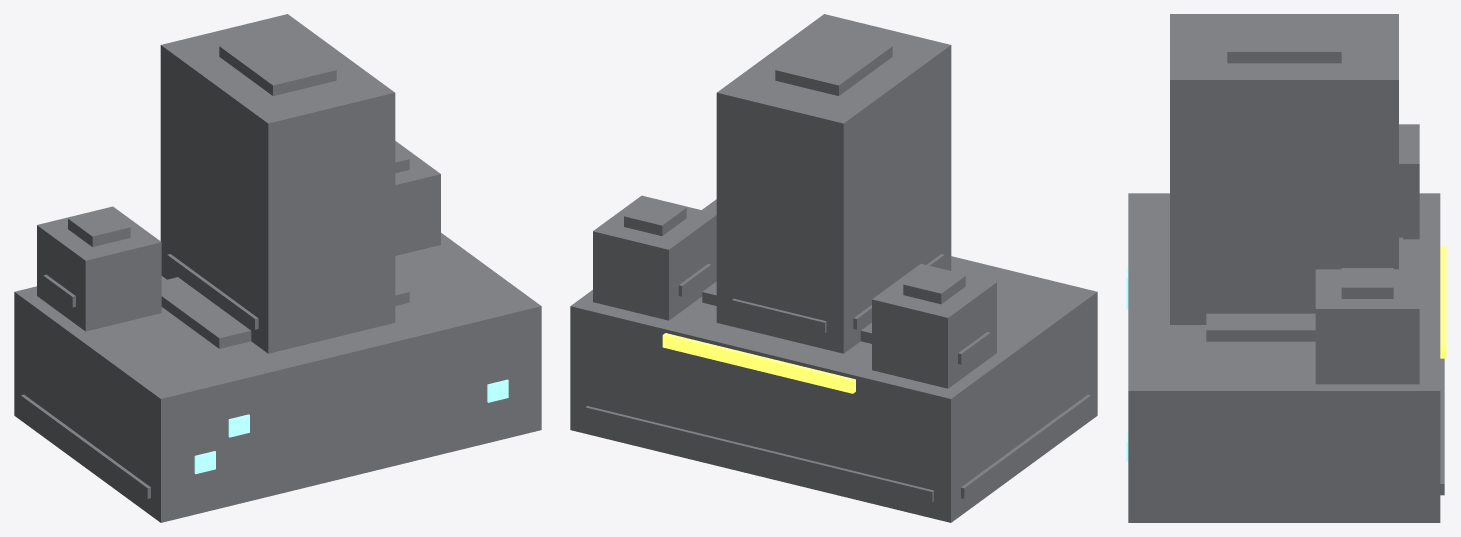
File: city_hall_lod0-DuEJ0NMN.glb
The picture shows the model from 3 angles, left to right: view 1: azimuth 30°, elevation 25°; view 2: azimuth 150°, elevation 25°; view 3: azimuth 270°, elevation 25°; orthographic projection. The views are drawn at different scales.
Parts seen in each view (by area): view 1: body, window; view 2: body, sign; view 3: body, sign.
Boxes of the visible parts, x1,y1,x2,y2 form: body: [14, 14, 541, 522]; window: [194, 379, 508, 473]; body: [570, 14, 1097, 522]; sign: [662, 333, 855, 393]; body: [1128, 14, 1444, 522]; sign: [1440, 246, 1446, 358].
Size of the model in its own units: 0.908 by 0.824 by 0.616.
